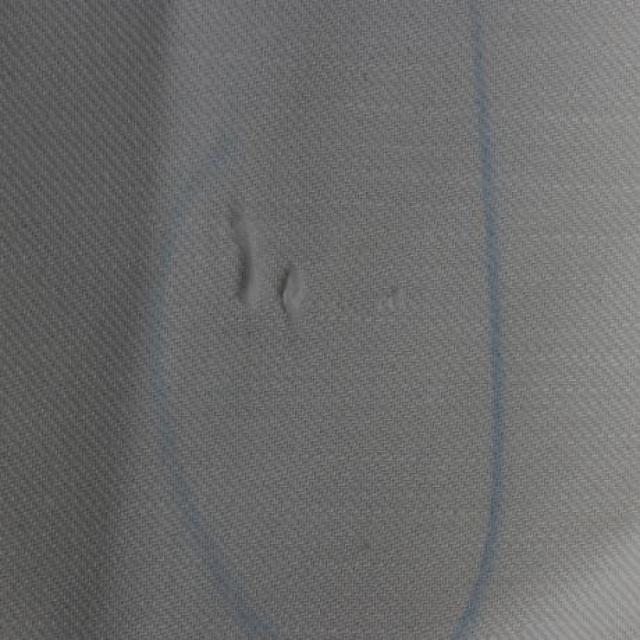Thread_other: (188, 198, 436, 390)
